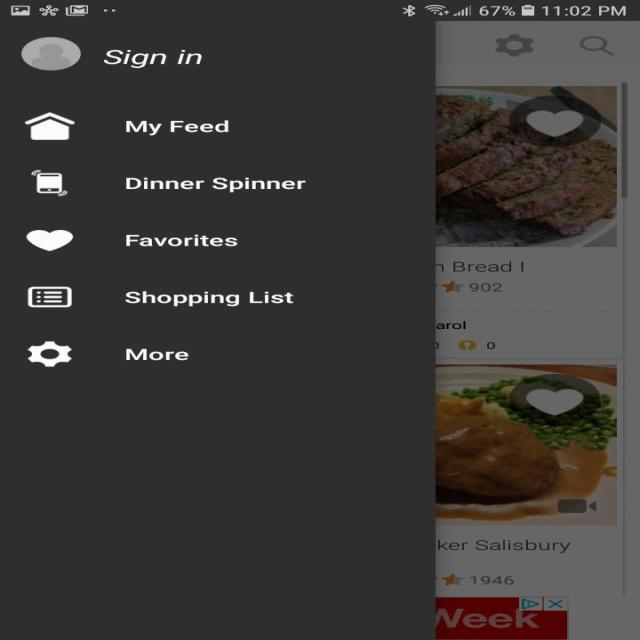Drawer: (0, 21, 435, 639)
Icon: (20, 36, 81, 71), (24, 111, 76, 140), (27, 340, 73, 367), (26, 229, 74, 251), (27, 286, 72, 307)
Image: (30, 170, 68, 196)
Text: (124, 290, 294, 307), (125, 177, 306, 192), (103, 50, 202, 68), (125, 119, 228, 136), (125, 234, 238, 246), (125, 348, 188, 361)
